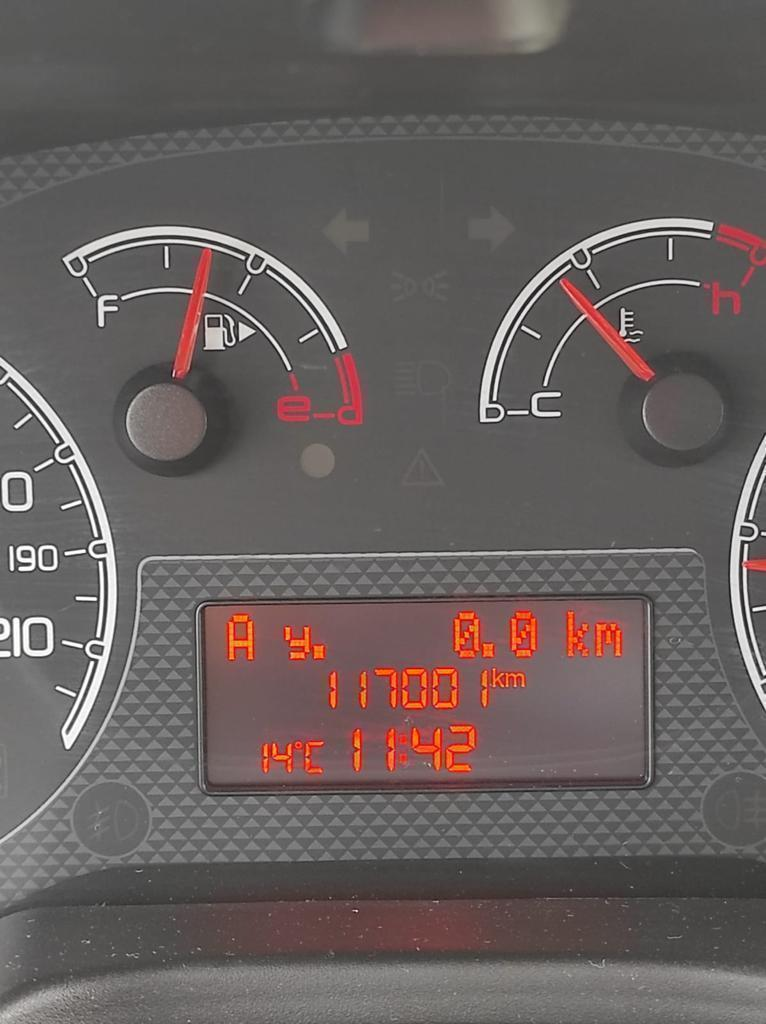,: (481, 639, 496, 660), (312, 642, 326, 661)
0: (506, 608, 539, 661), (449, 608, 481, 660), (400, 664, 429, 712), (431, 664, 459, 710)
1: (345, 726, 365, 773), (378, 726, 397, 773), (323, 667, 341, 712), (353, 666, 371, 710), (473, 666, 490, 709), (257, 740, 271, 775)
2: (445, 722, 477, 773)
4: (409, 725, 443, 771), (271, 740, 293, 774)
7: (372, 665, 398, 711)
X: (224, 610, 257, 663), (564, 607, 591, 659), (592, 620, 625, 658), (281, 622, 310, 661), (303, 738, 326, 775), (505, 670, 526, 689), (491, 664, 505, 689), (398, 731, 408, 766)
odometer: (190, 589, 660, 803)
